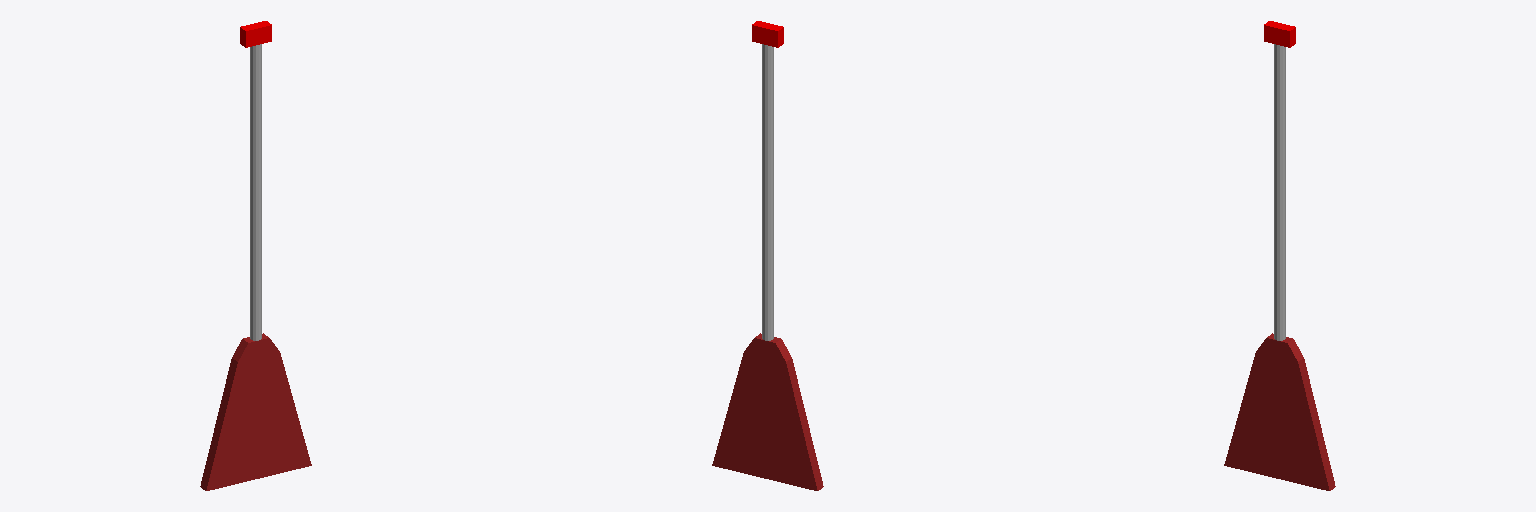
robot.urdf — azuma-short-broom:
<?xml version="1.0"?>
<robot name="azuma-short-broom"
       xmlns:xi="http://www.w3.org/2001/XInclude"
       >
  <gazebo>
    <static>false</static>
  </gazebo>
  <link name="nil_link">
    <visual>
      <origin xyz="0 0 0" rpy="0 -0 0"/>
      <geometry>
        <mesh filename="model://azuma-short-broom/meshes/nil_link_mesh.dae" scale="1 1 1" />
      </geometry>
    </visual>
    <collision>
      <origin xyz="0 0 0" rpy="0 -0 0"/>
      <geometry>
        <mesh filename="model://azuma-short-broom/meshes/nil_link_mesh.dae" scale="1 1 1" />
      </geometry>
    </collision>
    <inertial>
      <mass value="0.001" />
      <origin xyz="0 0 0" rpy="0 -0 0"/>
      <inertia ixx="1e-03" ixy="0" ixz="0" iyy="1e-03" iyz="0" izz="1e-03"/>
    </inertial>
  </link>
  <gazebo reference="nil_link">
    <mu1>0.9</mu1>
    <mu2>0.9</mu2>
  </gazebo>
</robot>

--- What the picture shows (computed from the rendered views, not written in the file) ---
3 views of the same robot in one strip: view 1: azimuth 30°, elevation 25°; view 2: azimuth 150°, elevation 25°; view 3: azimuth 330°, elevation 25° (orthographic).
Model azuma-short-broom with 1 links and 0 joints (none), rooted at nil_link, posed every joint at zero.
Links seen in each view (by area): view 1: nil_link; view 2: nil_link; view 3: nil_link.
Boxes of the visible links, x1,y1,x2,y2 form: nil_link: (200,21,311,490); nil_link: (712,21,823,490); nil_link: (1224,21,1335,490).
Bounding box of the posed robot: 0.2 × 0.02 × 0.815 m (x, y, z).
Meshes: 1 distinct files referenced, 1 mesh visuals loaded (1 Collada DAE).
